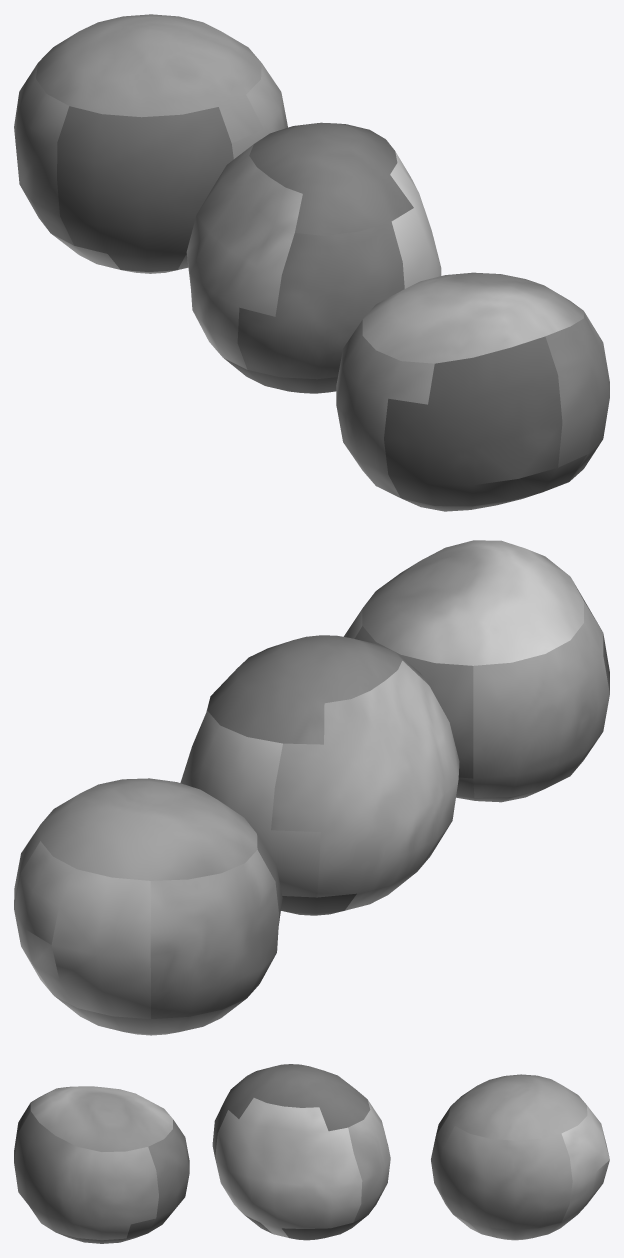
The model's file is SM_food.fbx.
3 views of the same model, one above another, from view 1: azimuth 30°, elevation 25°; view 2: azimuth 150°, elevation 25°; view 3: azimuth 270°, elevation 25° (orthographic). The views are drawn at different scales.
Parts seen in each view (by area): view 1: SM_food; view 2: SM_food; view 3: SM_food.
Boxes of the visible parts, bbox=[...] form: SM_food: bbox=[14, 14, 609, 511]; SM_food: bbox=[14, 540, 609, 1035]; SM_food: bbox=[14, 1064, 609, 1243].
Size of the model in its own units: 2.85 by 9.51 by 2.85.
1 material, 1 textured.
